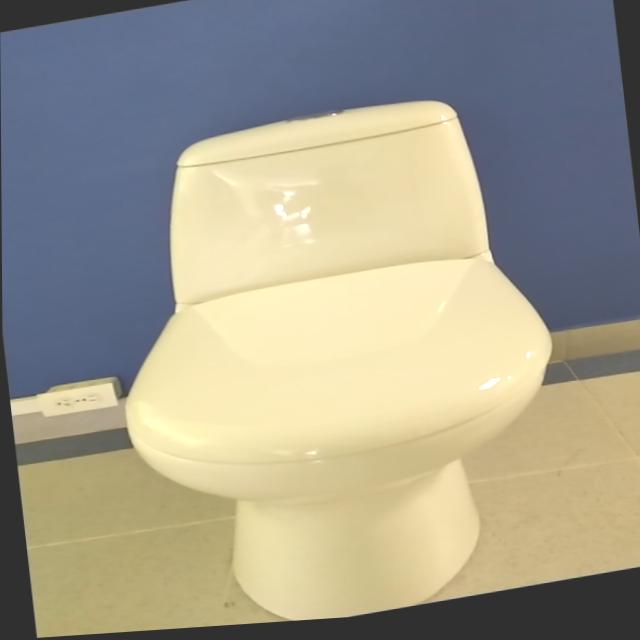toilet: (94, 81, 579, 635)
